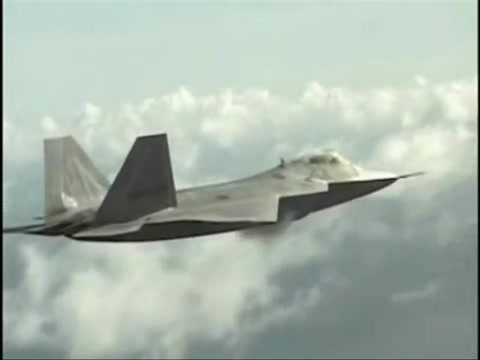aeroplane: (5, 134, 431, 247)
